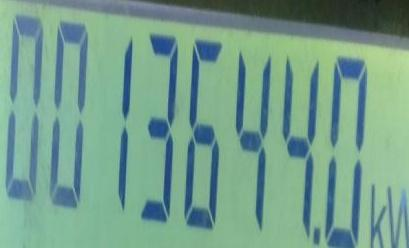.: (369, 182, 409, 248)
0: (311, 227, 322, 247)
1: (47, 18, 96, 213), (0, 14, 46, 206), (323, 55, 368, 248)
2: (115, 37, 142, 211)
4: (139, 29, 180, 225)
5: (230, 49, 275, 227), (281, 58, 322, 238)
7: (183, 37, 226, 229)
